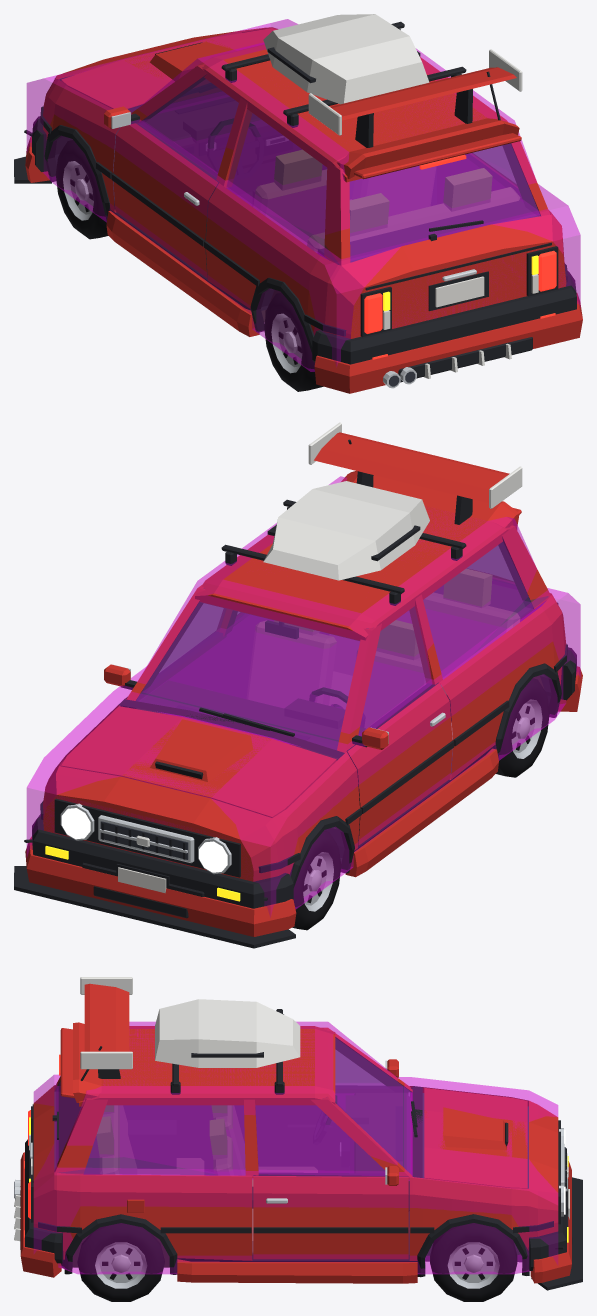
The model's file is compact.glb.
3 views of the same model, one above another, from view 1: azimuth 30°, elevation 25°; view 2: azimuth 150°, elevation 25°; view 3: azimuth 270°, elevation 25° (orthographic). The views are drawn at different scales.
Parts seen in each view (by area): view 1: Body, Col_Cabin, Col_Body, Glass_L, Glass_Rear, Mod_Roof_A, Door_FL, Mod_BumperR_A, Mod_Spoiler_B, Hood, Mod_Skirts_A, Mod_Spoiler_A (+5 smaller); view 2: Body, Col_Cabin, Col_Body, Glass_Windshield, Mod_Roof_A, Glass_L, Hood, Mod_BumperF_A, Door_FL, Mod_Spoiler_B, Mod_Skirts_A, Mod_Hood_A (+7 smaller); view 3: Body, Col_Body, Col_Cabin, Glass_R, Door_FR, Mod_Roof_A, Hood, Glass_Windshield, Wheel_FR, Wheel_RR, Mod_Skirts_A, Door_FL (+7 smaller).
Part boxes in pixels (box(x1,y1,x2,y2)): Body: box(32, 27, 576, 364); Col_Cabin: box(138, 42, 539, 260); Col_Body: box(26, 19, 580, 371); Glass_L: box(140, 77, 338, 264); Glass_Rear: box(350, 144, 539, 261); Mod_Roof_A: box(221, 14, 466, 127); Door_FL: box(104, 106, 219, 278); Mod_BumperR_A: box(314, 293, 582, 393); Mod_Spoiler_B: box(308, 49, 522, 147); Hood: box(61, 28, 276, 108); Mod_Skirts_A: box(106, 210, 259, 336); Mod_Spoiler_A: box(336, 118, 519, 178); Body: box(32, 439, 576, 908); Col_Cabin: box(138, 476, 545, 745); Col_Body: box(26, 588, 580, 917); Glass_Windshield: box(136, 588, 359, 749); Mod_Roof_A: box(221, 481, 466, 605); Glass_L: box(359, 542, 548, 735); Hood: box(61, 706, 336, 817); Mod_BumperF_A: box(14, 836, 296, 948); Door_FL: box(346, 682, 454, 845); Mod_Spoiler_B: box(308, 422, 522, 524); Mod_Skirts_A: box(345, 748, 498, 877); Mod_Hood_A: box(150, 719, 253, 781); Body: box(24, 1026, 569, 1277); Col_Body: box(33, 1074, 558, 1274); Col_Cabin: box(57, 1021, 412, 1180); Glass_R: box(59, 1105, 384, 1174); Door_FR: box(253, 1166, 408, 1259); Mod_Roof_A: box(155, 999, 300, 1094); Hood: box(424, 1088, 527, 1188); Glass_Windshield: box(335, 1038, 410, 1173); Wheel_FR: box(430, 1223, 517, 1301); Wheel_RR: box(77, 1223, 164, 1301); Mod_Skirts_A: box(177, 1259, 417, 1283); Door_FL: box(256, 1059, 407, 1166).
Size of what is drawn, in the model's own units: 1.89 by 1.82 by 3.91.
